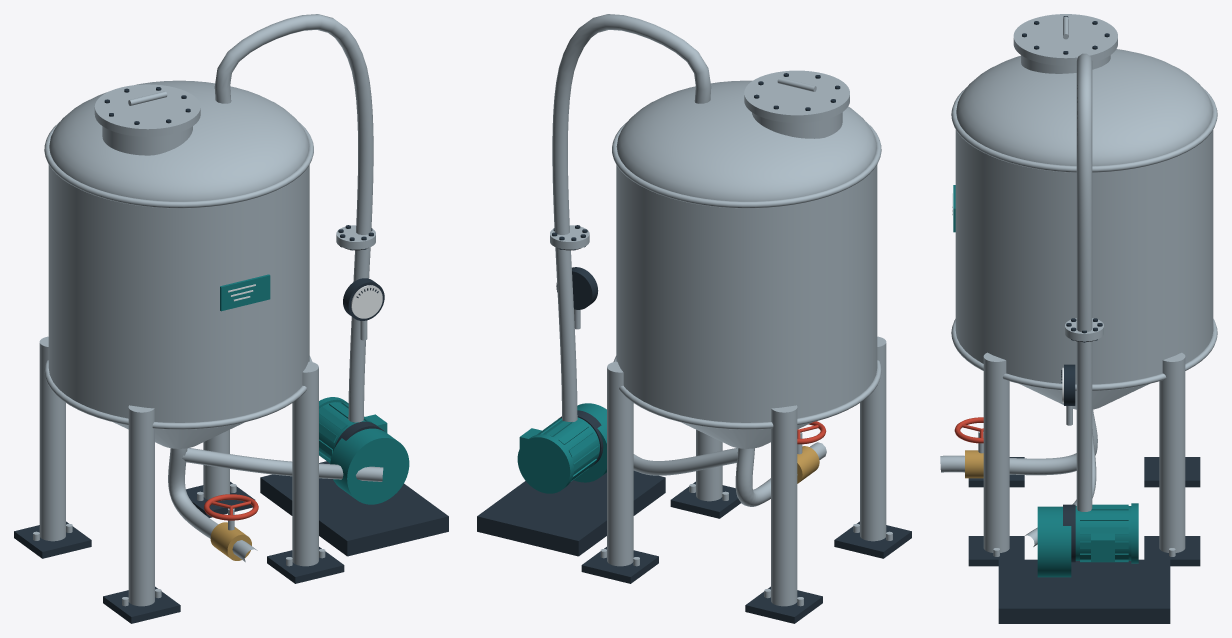
The model's file is 清洗釜.7ca44ff8f675.glb.
3 renders of one model, left to right at view 1: azimuth 30°, elevation 25°; view 2: azimuth 150°, elevation 25°; view 3: azimuth 270°, elevation 25°, orthographic.
Parts seen in each view (by area): view 1: cleaning_shell, cleaning_pump, cleaning_spray, cleaning-vessel_leg_2, cleaning-vessel_leg_3, cleaning-vessel, cleaning-vessel_leg_0, cleaning-vessel_flange_27, cleaning-vessel_leg_1, cleaning_pump_motor, cleaning-vessel_valve_79, cleaning-vessel_gauge_87 (+1 smaller); view 2: cleaning_shell, cleaning_pump, cleaning_spray, cleaning-vessel_leg_0, cleaning-vessel_leg_1, cleaning-vessel_leg_2, cleaning_pump_motor, cleaning-vessel, cleaning-vessel_flange_27, cleaning-vessel_leg_3, cleaning-vessel_gauge_87, cleaning-vessel_valve_79 (+1 smaller); view 3: cleaning_shell, cleaning_pump, cleaning_spray, cleaning-vessel_leg_1, cleaning-vessel_leg_3, cleaning-vessel_flange_27, cleaning_pump_motor, cleaning-vessel, cleaning-vessel_valve_79, cleaning-vessel_leg_0, cleaning-vessel_gauge_87, cleaning-vessel_flange_100 (+1 smaller).
Part boxes in pixels (x1=…): cleaning_shell: x1=44, y1=80, x2=313, y2=448; cleaning_pump: x1=260, y1=428, x2=448, y2=556; cleaning_spray: x1=214, y1=14, x2=373, y2=422; cleaning-vessel_leg_2: x1=103, y1=405, x2=180, y2=623; cleaning-vessel_leg_3: x1=267, y1=361, x2=344, y2=583; cleaning-vessel: x1=102, y1=91, x2=383, y2=562; cleaning-vessel_leg_0: x1=14, y1=336, x2=91, y2=558; cleaning-vessel_flange_27: x1=94, y1=84, x2=200, y2=136; cleaning-vessel_leg_1: x1=186, y1=429, x2=255, y2=517; cleaning_pump_motor: x1=319, y1=397, x2=387, y2=463; cleaning-vessel_valve_79: x1=204, y1=494, x2=258, y2=560; cleaning-vessel_gauge_87: x1=343, y1=278, x2=384, y2=340; cleaning_shell: x1=612, y1=80, x2=881, y2=448; cleaning_pump: x1=477, y1=403, x2=665, y2=556; cleaning_spray: x1=552, y1=14, x2=711, y2=422; cleaning-vessel_leg_0: x1=745, y1=405, x2=822, y2=623; cleaning-vessel_leg_1: x1=581, y1=361, x2=658, y2=583; cleaning-vessel_leg_2: x1=834, y1=336, x2=911, y2=558; cleaning_pump_motor: x1=517, y1=410, x2=603, y2=493; cleaning-vessel: x1=633, y1=77, x2=842, y2=506; cleaning-vessel_flange_27: x1=744, y1=70, x2=849, y2=122; cleaning-vessel_leg_3: x1=670, y1=429, x2=740, y2=518; cleaning-vessel_gauge_87: x1=556, y1=267, x2=598, y2=329; cleaning-vessel_valve_79: x1=797, y1=421, x2=826, y2=483; cleaning_shell: x1=951, y1=49, x2=1217, y2=409; cleaning_pump: x1=998, y1=506, x2=1170, y2=623; cleaning_spray: x1=1076, y1=53, x2=1092, y2=511; cleaning-vessel_leg_1: x1=1144, y1=352, x2=1200, y2=566; cleaning-vessel_leg_3: x1=968, y1=352, x2=1024, y2=566; cleaning-vessel_flange_27: x1=1013, y1=14, x2=1117, y2=65; cleaning_pump_motor: x1=1063, y1=503, x2=1138, y2=563; cleaning-vessel: x1=940, y1=16, x2=1110, y2=546; cleaning-vessel_valve_79: x1=954, y1=417, x2=983, y2=478; cleaning-vessel_leg_0: x1=1144, y1=457, x2=1200, y2=487; cleaning-vessel_gauge_87: x1=1061, y1=364, x2=1075, y2=425; cleaning-vessel_flange_100: x1=1065, y1=318, x2=1103, y2=342.
Bounding box in the file's own units: 2.09 × 2.97 × 1.49.
